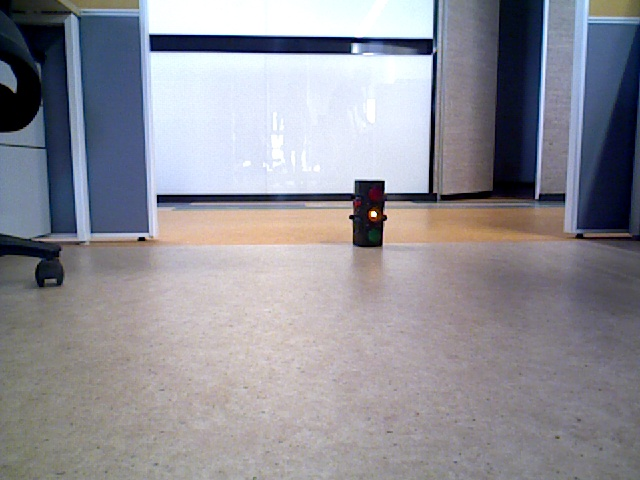yellow: (354, 181, 381, 244)
